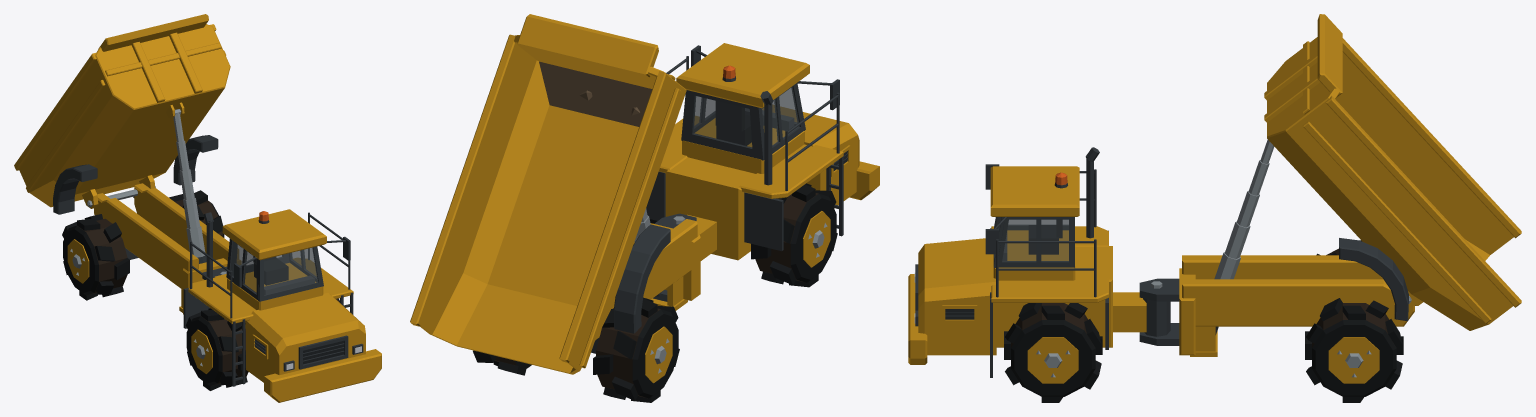
The model's file is articulated-dump-truck-ee50f3.glb.
The picture shows the model from 3 angles, left to right: view 1: azimuth 30°, elevation 25°; view 2: azimuth 150°, elevation 25°; view 3: azimuth 270°, elevation 25°; orthographic projection. The views are drawn at different scales.
Visible parts, largest first — view 1: dump-body-mesh, tractor, trailer-frame, wheel-mesh-rr, wheel-mesh-fr, glazing, wheel-mesh-rl, hoist-stage-2, hoist-stage-1, hoist-stage-3; view 2: dump-body-mesh, tractor, wheel-mesh-rr, wheel-mesh-fr, trailer-frame, glazing, wheel-mesh-rl; view 3: dump-body-mesh, tractor, trailer-frame, wheel-mesh-rl, wheel-mesh-fl, glazing, hoist-stage-2.
Boxes of the visible parts, x1=… form: dump-body-mesh: x1=14, y1=14, x2=230, y2=214; tractor: x1=183, y1=209, x2=381, y2=402; trailer-frame: x1=87, y1=183, x2=241, y2=314; wheel-mesh-rr: x1=62, y1=214, x2=129, y2=300; wheel-mesh-fr: x1=185, y1=308, x2=248, y2=390; glazing: x1=230, y1=241, x2=317, y2=295; wheel-mesh-rl: x1=169, y1=190, x2=224, y2=237; hoist-stage-2: x1=183, y1=198, x2=200, y2=228; hoist-stage-1: x1=186, y1=226, x2=205, y2=257; hoist-stage-3: x1=179, y1=169, x2=194, y2=199; dump-body-mesh: x1=410, y1=14, x2=686, y2=374; tractor: x1=646, y1=43, x2=879, y2=260; wheel-mesh-rr: x1=593, y1=297, x2=679, y2=402; wheel-mesh-fr: x1=751, y1=183, x2=837, y2=287; trailer-frame: x1=591, y1=213, x2=700, y2=353; glazing: x1=693, y1=87, x2=799, y2=147; wheel-mesh-rl: x1=473, y1=350, x2=531, y2=375; dump-body-mesh: x1=1264, y1=14, x2=1521, y2=330; tractor: x1=908, y1=147, x2=1170, y2=377; trailer-frame: x1=1139, y1=255, x2=1415, y2=356; wheel-mesh-rl: x1=1305, y1=298, x2=1403, y2=402; wheel-mesh-fl: x1=1004, y1=303, x2=1102, y2=402; glazing: x1=996, y1=217, x2=1068, y2=261; hoist-stage-2: x1=1225, y1=221, x2=1250, y2=258.
Bounding box in the file's own units: 3.08 × 5.68 × 9.78.
